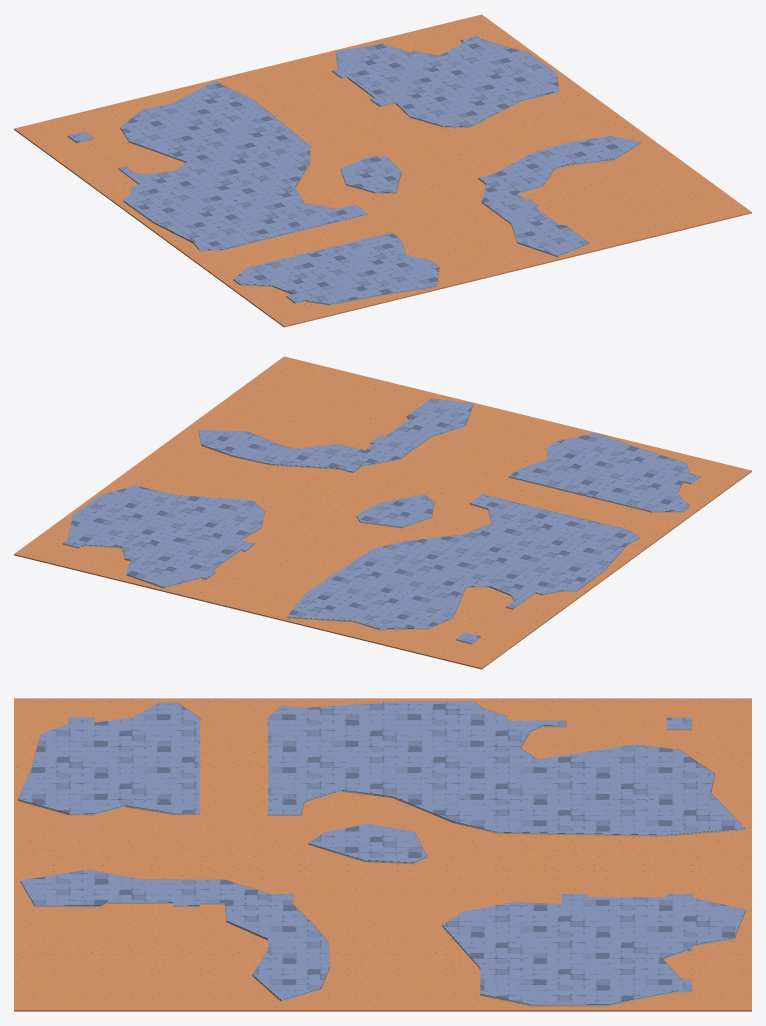
The model's file is Rooms_Paradise_32_Floor_Tiles_Art.fbx.
The picture shows the model from 3 angles, top to bottom: view 1: azimuth 30°, elevation 25°; view 2: azimuth 150°, elevation 25°; view 3: azimuth 270°, elevation 25°; orthographic projection. The views are drawn at different scales.
Visible parts, largest first — view 1: Rooms_Paradise_32_Floor_Tiles_Art, Rooms_Paradise_32_Floor_Tiles, Rooms_Paradise_32_Floor_Tiles_Shadows; view 2: Rooms_Paradise_32_Floor_Tiles_Art, Rooms_Paradise_32_Floor_Tiles, Rooms_Paradise_32_Floor_Tiles_Shadows; view 3: Rooms_Paradise_32_Floor_Tiles_Art, Rooms_Paradise_32_Floor_Tiles, Rooms_Paradise_32_Floor_Tiles_Shadows.
Boxes of the visible parts, left/top/right/bottom form: Rooms_Paradise_32_Floor_Tiles_Art: left=14, top=14, right=751, bottom=327; Rooms_Paradise_32_Floor_Tiles: left=68, top=36, right=641, bottom=304; Rooms_Paradise_32_Floor_Tiles_Shadows: left=67, top=39, right=641, bottom=305; Rooms_Paradise_32_Floor_Tiles_Art: left=14, top=356, right=751, bottom=669; Rooms_Paradise_32_Floor_Tiles: left=63, top=398, right=700, bottom=643; Rooms_Paradise_32_Floor_Tiles_Shadows: left=62, top=398, right=700, bottom=644; Rooms_Paradise_32_Floor_Tiles_Art: left=14, top=698, right=751, bottom=1011; Rooms_Paradise_32_Floor_Tiles: left=18, top=701, right=745, bottom=1004; Rooms_Paradise_32_Floor_Tiles_Shadows: left=18, top=701, right=745, bottom=1006.
Size of the model in its own units: 3168 by 15.85 by 3168.
